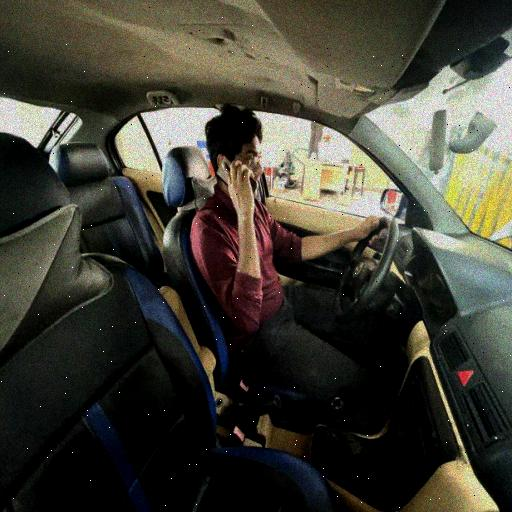Talking_on_phone: (191, 106, 378, 354)
